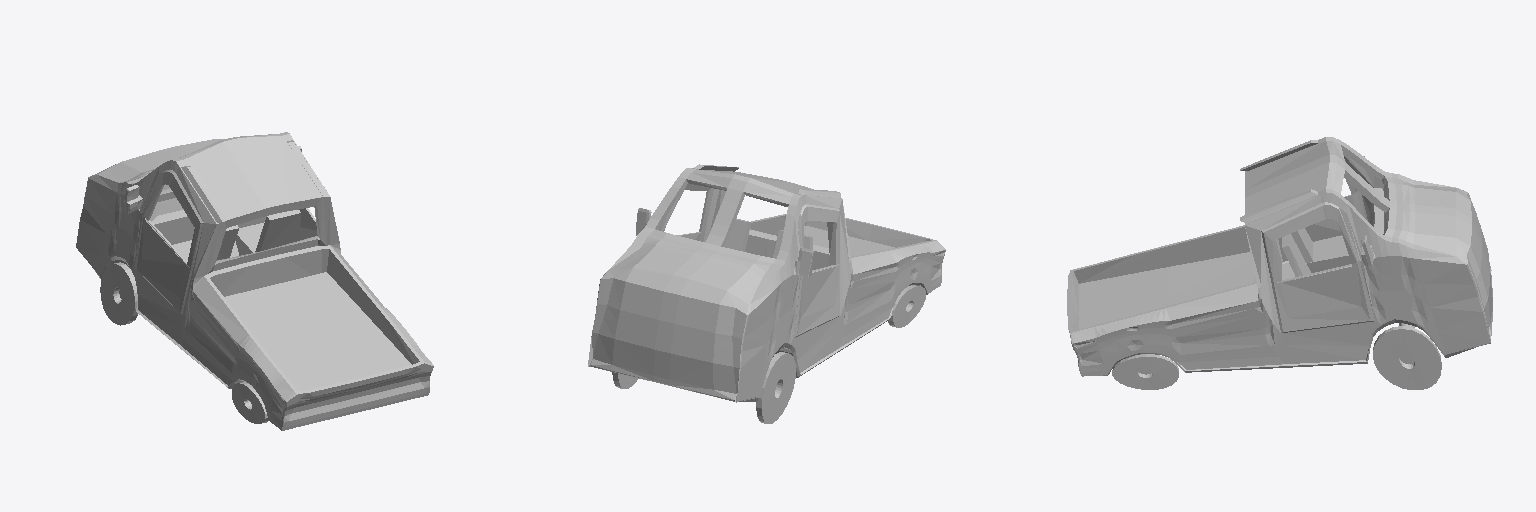
The model's file is TRUCK_MORPH_FORWARD.obj.
3 views of the same model, side by side, from view 1: azimuth 30°, elevation 25°; view 2: azimuth 150°, elevation 25°; view 3: azimuth 270°, elevation 25° (orthographic).
Parts seen in each view (by area): view 1: Plane.000; view 2: Plane.000; view 3: Plane.000.
Boxes of the visible parts, box(x1,y1,x2,y2) form: Plane.000: box(76, 132, 433, 430); Plane.000: box(588, 164, 945, 423); Plane.000: box(1067, 137, 1492, 389).
Bounding box in the file's own units: 1.77 × 1.89 × 3.73.